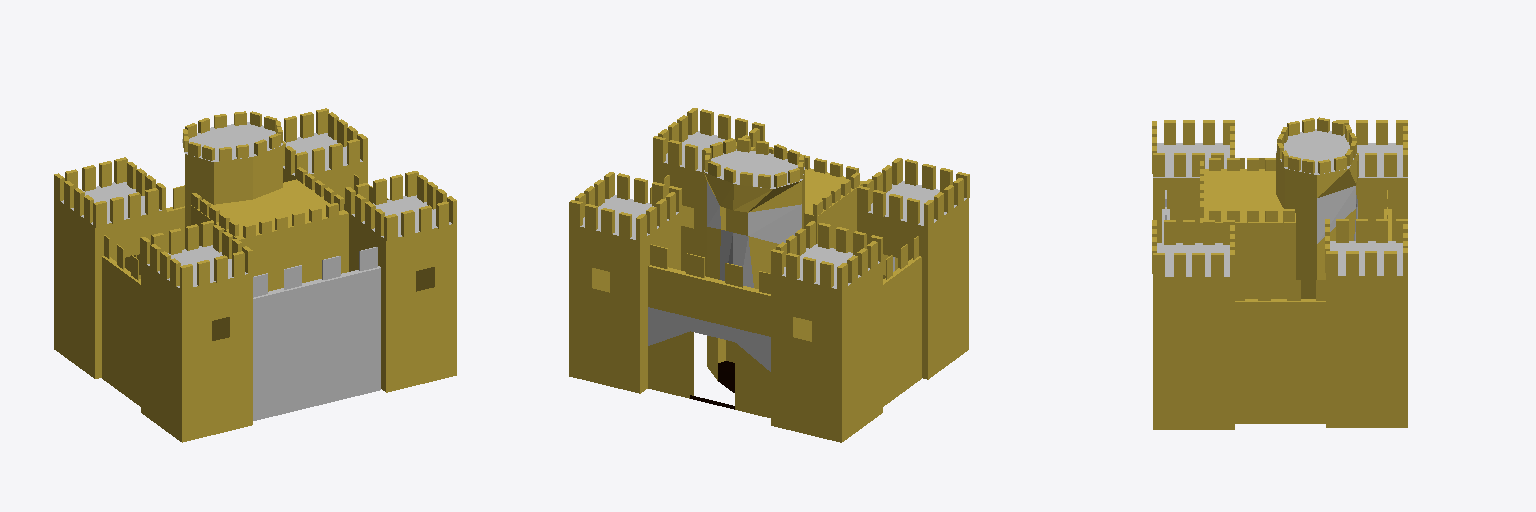
File: castle.obj
3 renders of one model, left to right at view 1: azimuth 30°, elevation 25°; view 2: azimuth 150°, elevation 25°; view 3: azimuth 270°, elevation 25°, orthographic.
Visible parts, largest first — view 1: Cube.002_Cube.018, Cube.003_Cube.019, Cube.004_Cube.026, Cube, Cube.009_Cube.030, Cube.008_Cube.029, Cube.005_Cube.027, Cube.001_Cube.017, Cube.006_Cube.023; view 2: Cube, Cube.001_Cube.017, Cube.002_Cube.018, Cube.006_Cube.023, Cube.008_Cube.029, Cube.003_Cube.019, Cube.005_Cube.027, Cube.009_Cube.030; view 3: Cube.003_Cube.019, Cube.001_Cube.017, Cube.007_Cube.028, Cube.008_Cube.029, Cube.009_Cube.030, Cube.002_Cube.018, Cube.
Boxes of the visible parts, x1=… form: Cube.002_Cube.018: x1=140, y1=220, x2=252, y2=442; Cube.003_Cube.019: x1=345, y1=171, x2=456, y2=392; Cube.004_Cube.026: x1=253, y1=247, x2=380, y2=420; Cube: x1=54, y1=157, x2=166, y2=378; Cube.009_Cube.030: x1=191, y1=179, x2=348, y2=291; Cube.008_Cube.029: x1=182, y1=122, x2=282, y2=226; Cube.005_Cube.027: x1=102, y1=235, x2=140, y2=406; Cube.001_Cube.017: x1=277, y1=108, x2=367, y2=209; Cube.006_Cube.023: x1=134, y1=185, x2=184, y2=257; Cube: x1=771, y1=221, x2=882, y2=442; Cube.001_Cube.017: x1=569, y1=172, x2=681, y2=393; Cube.002_Cube.018: x1=857, y1=158, x2=969, y2=379; Cube.006_Cube.023: x1=648, y1=244, x2=770, y2=417; Cube.008_Cube.029: x1=704, y1=149, x2=804, y2=392; Cube.003_Cube.019: x1=653, y1=108, x2=764, y2=276; Cube.005_Cube.027: x1=883, y1=236, x2=921, y2=406; Cube.009_Cube.030: x1=726, y1=168, x2=864, y2=362; Cube.003_Cube.019: x1=1152, y1=220, x2=1234, y2=429; Cube.001_Cube.017: x1=1325, y1=219, x2=1407, y2=427; Cube.007_Cube.028: x1=1235, y1=280, x2=1325, y2=423; Cube.008_Cube.029: x1=1276, y1=129, x2=1357, y2=298; Cube.009_Cube.030: x1=1200, y1=169, x2=1295, y2=298; Cube.002_Cube.018: x1=1152, y1=120, x2=1234, y2=242; Cube: x1=1336, y1=120, x2=1407, y2=240.
Size of the model in its own units: 1.22 by 0.9579 by 0.9827.